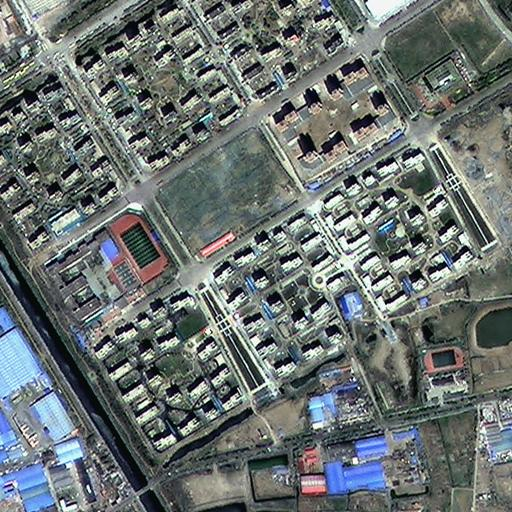school: (40, 202, 179, 323), (420, 342, 476, 407)
